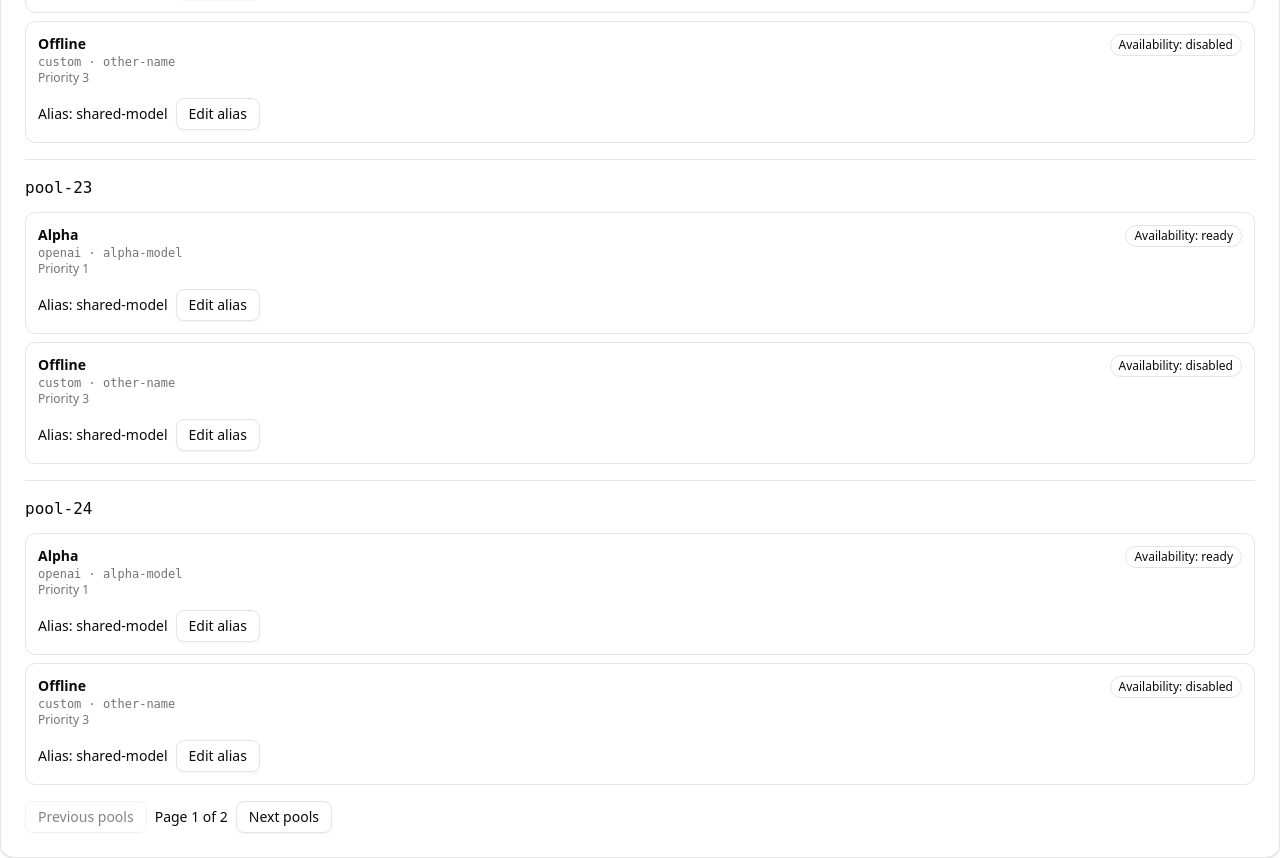
bounds pool rendering and searches across all pages
This screenshot has width=1280, height=858.
(page scrolled)
expect the element "pool-25" is not shown: met
Click the button "Next pools". click: [284, 817]
box: 236,801 -> 332,833
(page scrolled)
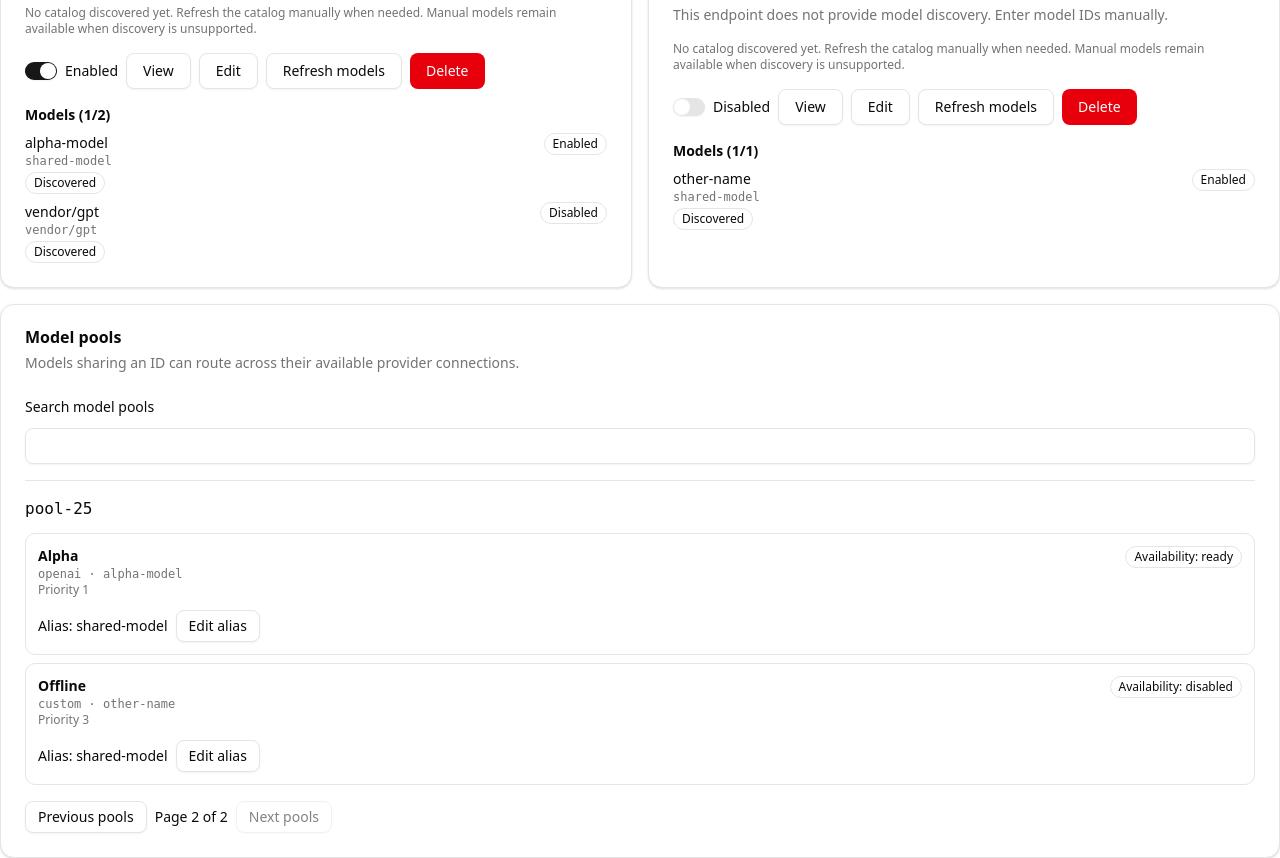
expect the element "pool-25" is shown: met, box 25,480 -> 1255,785
Type "pool-00" into the field labelled "Search model pools". click: [640, 446]
box: 25,428 -> 1255,464
(page scrolled)
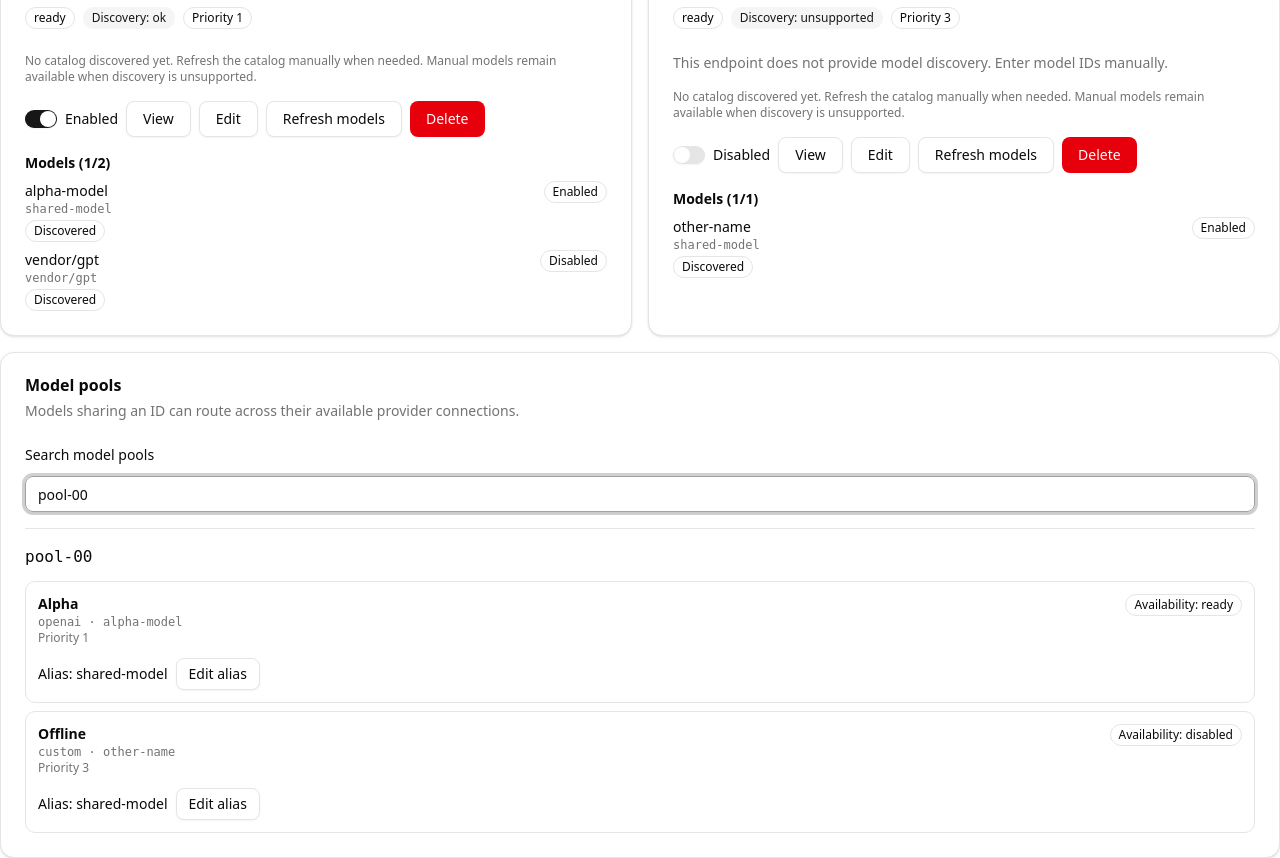
expect the element "pool-00" is shown: met, box 25,528 -> 1255,833
expect the button "Next pools" is gone: met
